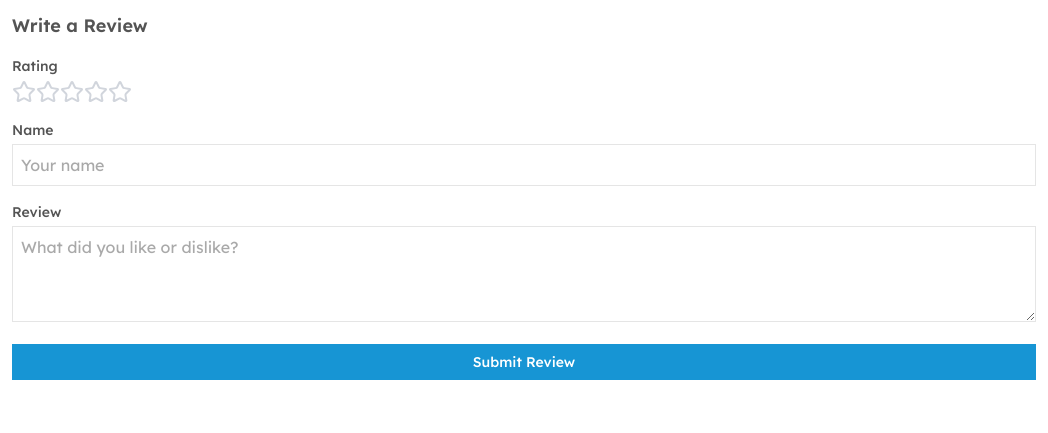
Test: ReviewForm › shows error if submission is empty
Click the button "Submit Review": (524,362) 12,344 -> 1036,380
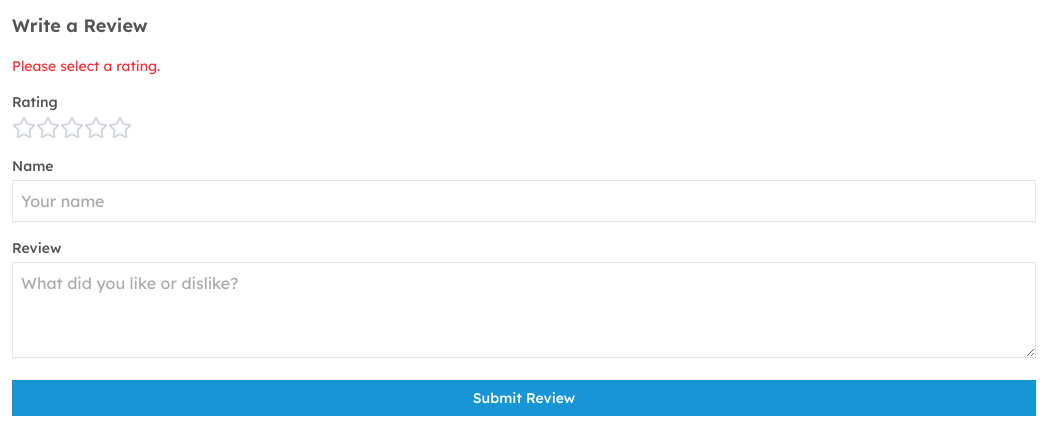
Now the text "Please select a rating." is shown, box 12,57 -> 160,75
